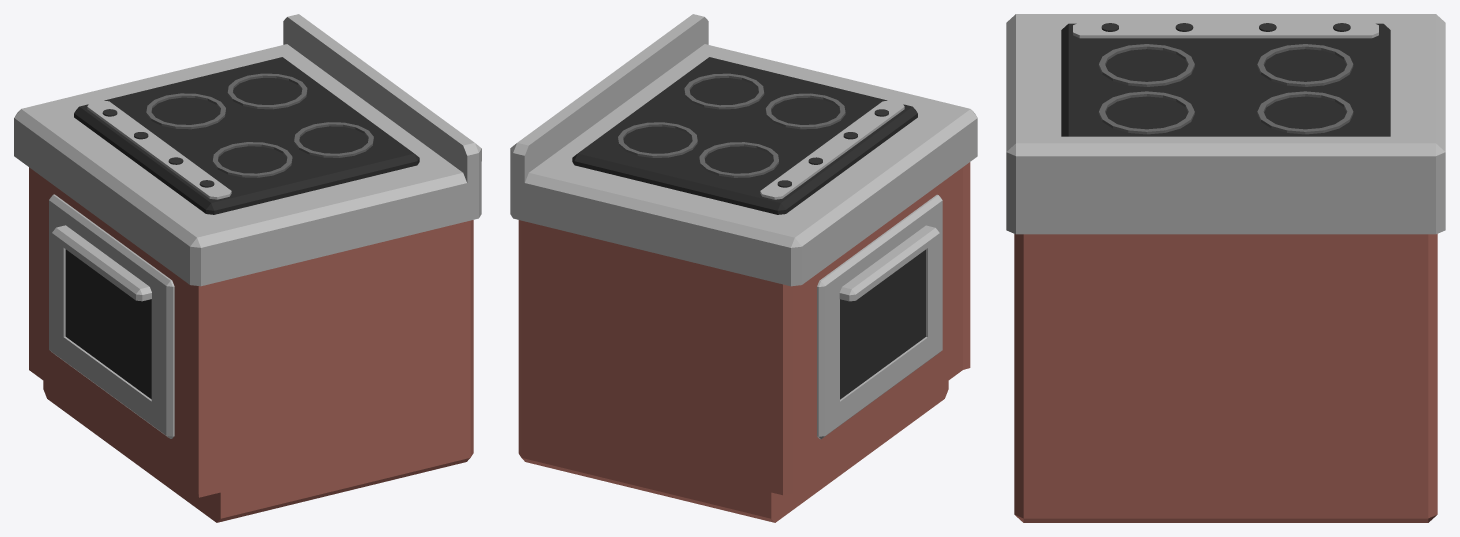
Rendered from stove.fbx.
3 renders of one model, left to right at view 1: azimuth 30°, elevation 25°; view 2: azimuth 150°, elevation 25°; view 3: azimuth 270°, elevation 25°, orthographic. The views are drawn at different scales.
Parts seen in each view (by area): view 1: Cube, Cube.001, Cube.002, Cube.004, Cube.006, Cube.003, Cube.005, Cylinder.001, Cylinder.002, Cylinder, Cylinder.003; view 2: Cube, Cube.001, Cube.002, Cube.004, Cube.006, Cube.003, Cube.005, Cylinder.003, Cylinder.001, Cylinder.002, Cylinder; view 3: Cube, Cube.001, Cube.002, Cube.003, Cylinder, Cylinder.003, Cylinder.001, Cylinder.002.
Part boxes in pixels (left/top/right/bottom): Cube: left=29, top=167, right=473, bottom=522; Cube.001: left=14, top=14, right=481, bottom=286; Cube.002: left=74, top=57, right=419, bottom=214; Cube.004: left=49, top=194, right=174, bottom=438; Cube.006: left=65, top=249, right=151, bottom=399; Cube.003: left=87, top=100, right=231, bottom=199; Cube.005: left=52, top=225, right=151, bottom=301; Cylinder.001: left=212, top=142, right=292, bottom=177; Cylinder.002: left=227, top=73, right=307, bottom=109; Cylinder: left=294, top=122, right=373, bottom=157; Cylinder.003: left=146, top=93, right=225, bottom=129; Cube: left=518, top=162, right=970, bottom=522; Cube.001: left=510, top=14, right=977, bottom=286; Cube.002: left=572, top=57, right=917, bottom=214; Cube.004: left=817, top=194, right=942, bottom=439; Cube.006: left=840, top=249, right=925, bottom=399; Cube.003: left=760, top=100, right=904, bottom=199; Cube.005: left=839, top=225, right=939, bottom=301; Cylinder.003: left=699, top=142, right=778, bottom=177; Cylinder.001: left=765, top=93, right=845, bottom=129; Cylinder.002: left=618, top=122, right=697, bottom=157; Cylinder: left=684, top=73, right=764, bottom=109; Cube: left=1014, top=234, right=1437, bottom=522; Cube.001: left=1006, top=14, right=1445, bottom=234; Cube.002: left=1061, top=23, right=1390, bottom=136; Cube.003: left=1073, top=22, right=1378, bottom=38; Cylinder: left=1098, top=91, right=1194, bottom=134; Cylinder.003: left=1257, top=44, right=1353, bottom=86; Cylinder.001: left=1098, top=44, right=1194, bottom=86; Cylinder.002: left=1257, top=91, right=1353, bottom=134.
Size of the model in its own units: 734 by 780 by 749.
